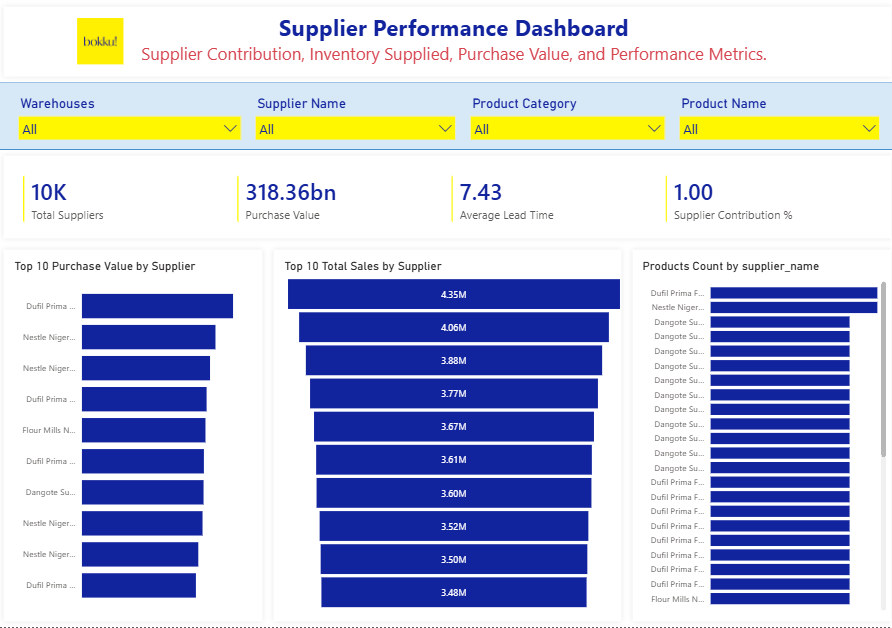

Layout of this report page (visuals, bound fields, positions):
{"tool":"powerbi","page":{"name":"Supplier Performance Dashboard","canvas":[1280,900],"ordinal":4},"visuals":[{"type":"shape","box":[384.5,354.6,511.2,545.4],"z":0},{"type":"shape","box":[0,354.6,384.5,545.4],"z":1000},{"type":"shape","box":[895.7,354.6,384.5,545.4],"z":2000},{"type":"shape","box":[0,123.9,1280.2,96.8],"z":3000},{"type":"shape","box":[0,220.7,1280.2,133.9],"z":4000},{"type":"shape","box":[0,8.1,1280.4,115.7],"z":5000},{"type":"textbox","box":[18.5,18.5,1261.7,89.7],"z":6000},{"type":"image","box":[108.9,32.3,72.6,65.9],"z":7000},{"type":"cardVisual","fields":{"Data":["suppliers.Total Suppliers","suppliers.Purchase Value","suppliers.Average Lead Time","suppliers.Supplier Contribution %"]},"box":[18.5,239.2,1247.5,102.5],"z":8000},{"type":"slicer","fields":{"Values":["products.category"]},"box":[662.2,138.1,297.6,68.4],"z":9000},{"type":"slicer","fields":{"Values":["warehouses.warehouse_name"]},"box":[18.5,138.1,337.5,68.4],"z":10000},{"type":"slicer","fields":{"Values":["suppliers.supplier_name"]},"box":[356,138.1,306.2,68.4],"z":11000},{"type":"slicer","fields":{"Values":["products.product_name"]},"box":[959.8,138.1,306.2,68.4],"z":12000},{"type":"clusteredBarChart","title":"Top 10 Purchase Value by Supplier","fields":{"Category":["suppliers.supplier_name"],"Y":["suppliers.Purchase Value"]},"box":[18.5,375.9,353.2,505.5],"z":13000},{"type":"funnel","title":"Top 10 Total Sales by Supplier","fields":{"Category":["suppliers.supplier_name"],"Y":["sales_transactions.Total Sales"]},"box":[403,375.9,492.7,505.5],"z":14000},{"type":"clusteredBarChart","fields":{"Y":["products.Products Count"],"Category":["suppliers.supplier_name"]},"box":[912.8,375.9,357.4,505.5],"z":15000}]}

Visuals, with their boxes in screenshot pixels (x1, y1, x2, y2), scaled from the page's 1280x900 canvas onto the 892x628 screenshot:
shape: bbox=(268, 247, 624, 627)
shape: bbox=(0, 247, 268, 627)
shape: bbox=(624, 247, 891, 627)
shape: bbox=(0, 86, 891, 154)
shape: bbox=(0, 154, 891, 247)
shape: bbox=(0, 6, 891, 86)
textbox: bbox=(13, 13, 891, 75)
image: bbox=(76, 23, 126, 69)
cardVisual - suppliers.Total Suppliers x suppliers.Purchase Value: bbox=(13, 167, 882, 238)
slicer - products.category: bbox=(461, 96, 669, 144)
slicer - warehouses.warehouse_name: bbox=(13, 96, 248, 144)
slicer - suppliers.supplier_name: bbox=(248, 96, 461, 144)
slicer - products.product_name: bbox=(669, 96, 882, 144)
"Top 10 Purchase Value by Supplier" clusteredBarChart: bbox=(13, 262, 259, 615)
"Top 10 Total Sales by Supplier" funnel: bbox=(281, 262, 624, 615)
clusteredBarChart - products.Products Count x suppliers.supplier_name: bbox=(636, 262, 885, 615)
